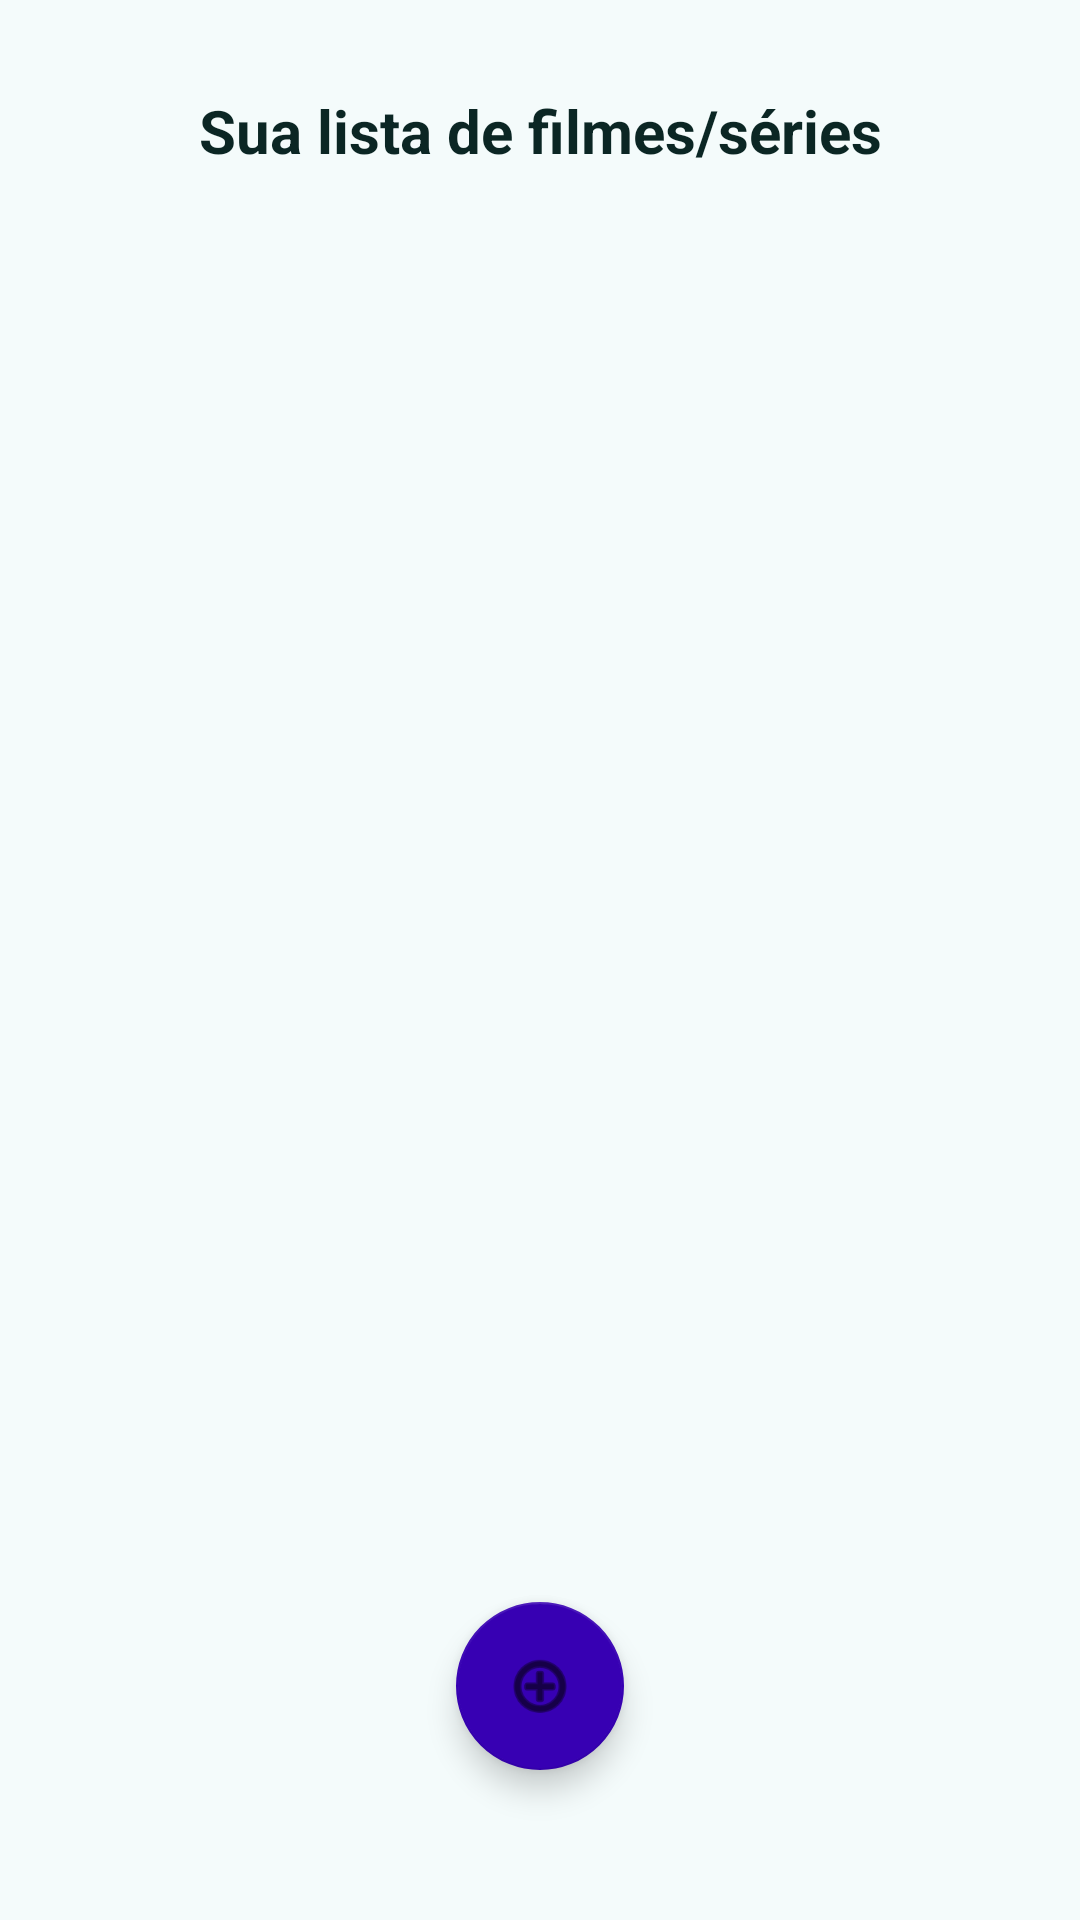

Screen size 1080w x 1920h. Icon name, then its box in pixels as bbox=[x1, y1, x2, y2]:
add: bbox=[456, 1602, 624, 1770]
